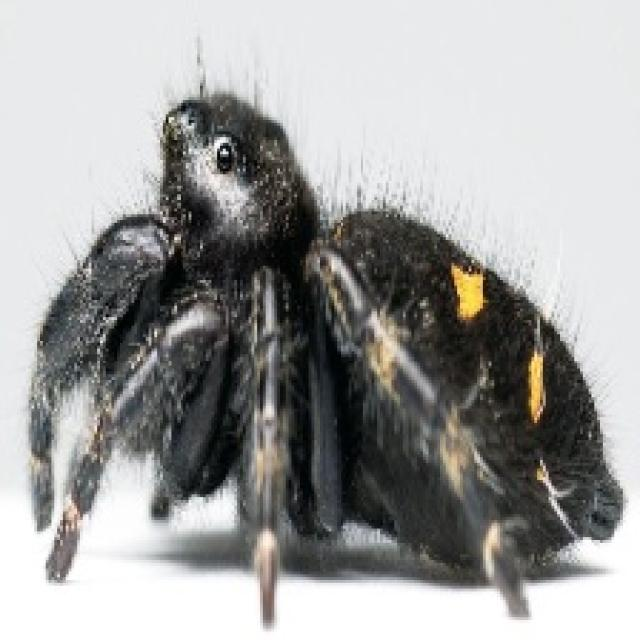Non venomous spider: (20, 52, 634, 605)
